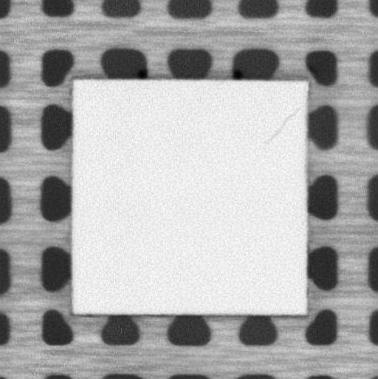DIE_CRACK: (264, 107, 303, 144)
